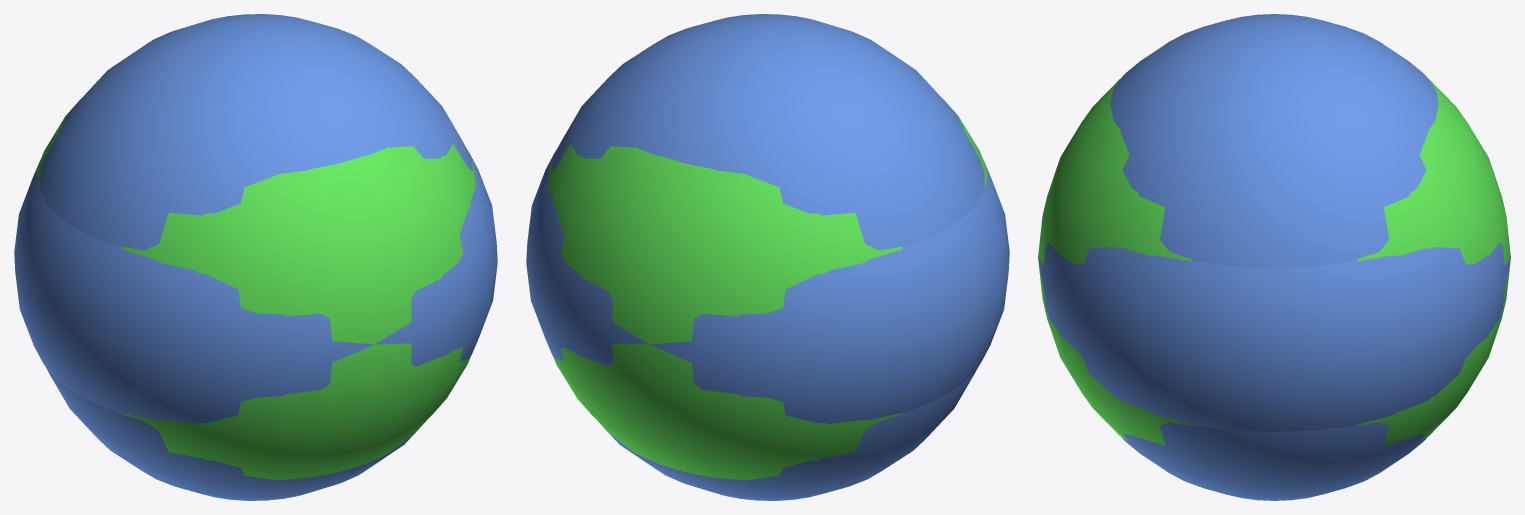
3 renders of one model, left to right at view 1: azimuth 30°, elevation 25°; view 2: azimuth 150°, elevation 25°; view 3: azimuth 270°, elevation 25°, orthographic.
Visible parts, largest first — view 1: earth; view 2: earth; view 3: earth.
Boxes of the visible parts, bbox=[...] form: earth: bbox=[14, 14, 497, 500]; earth: bbox=[526, 14, 1009, 500]; earth: bbox=[1038, 14, 1510, 500].
Bounding box in the file's own units: 2.06 × 2.07 × 2.
